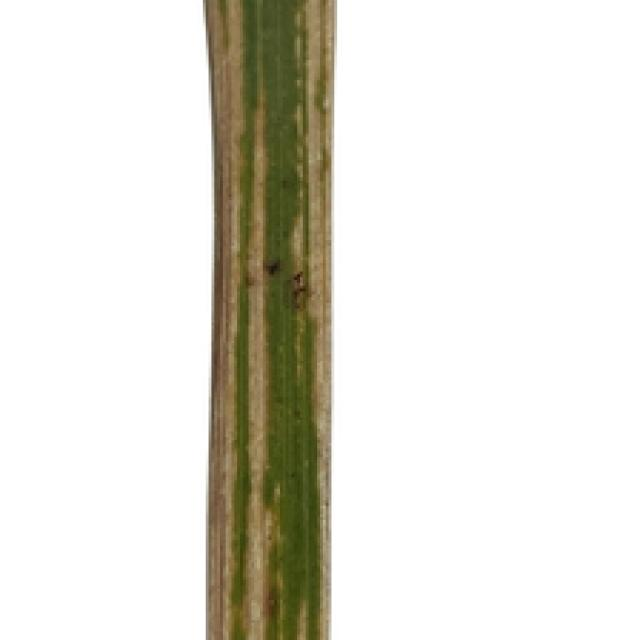Rice___Bacterial_Leaf_Blight: (199, 0, 339, 637)
